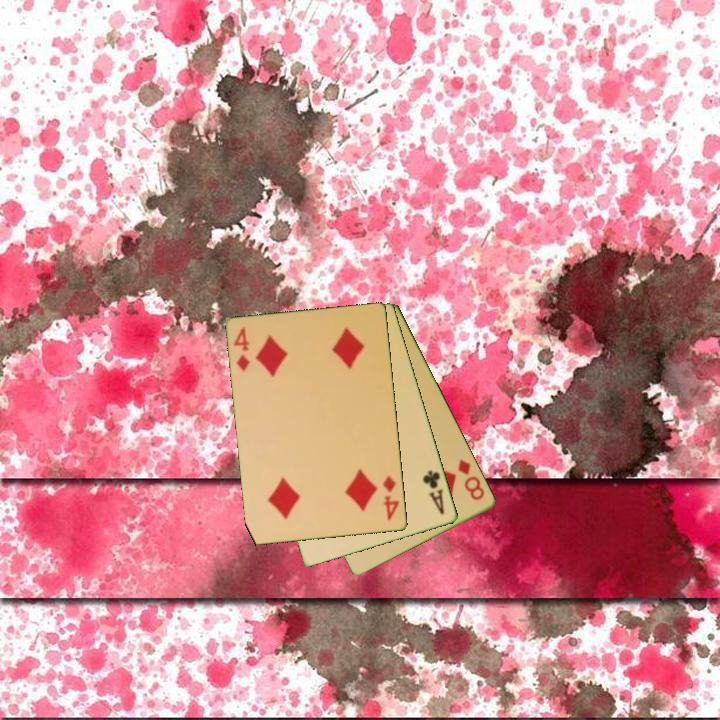4d: (379, 472, 402, 523), (230, 323, 253, 374)
8d: (455, 455, 488, 503)
Ac: (420, 467, 448, 518)
